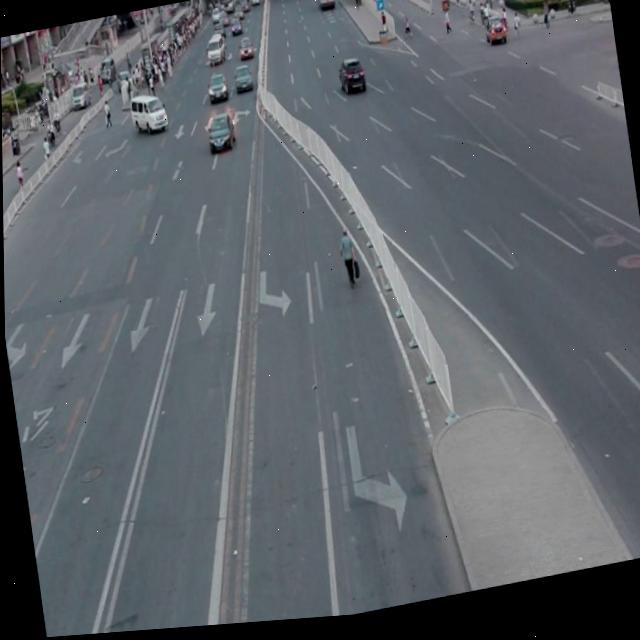car: (202, 112, 236, 160)
